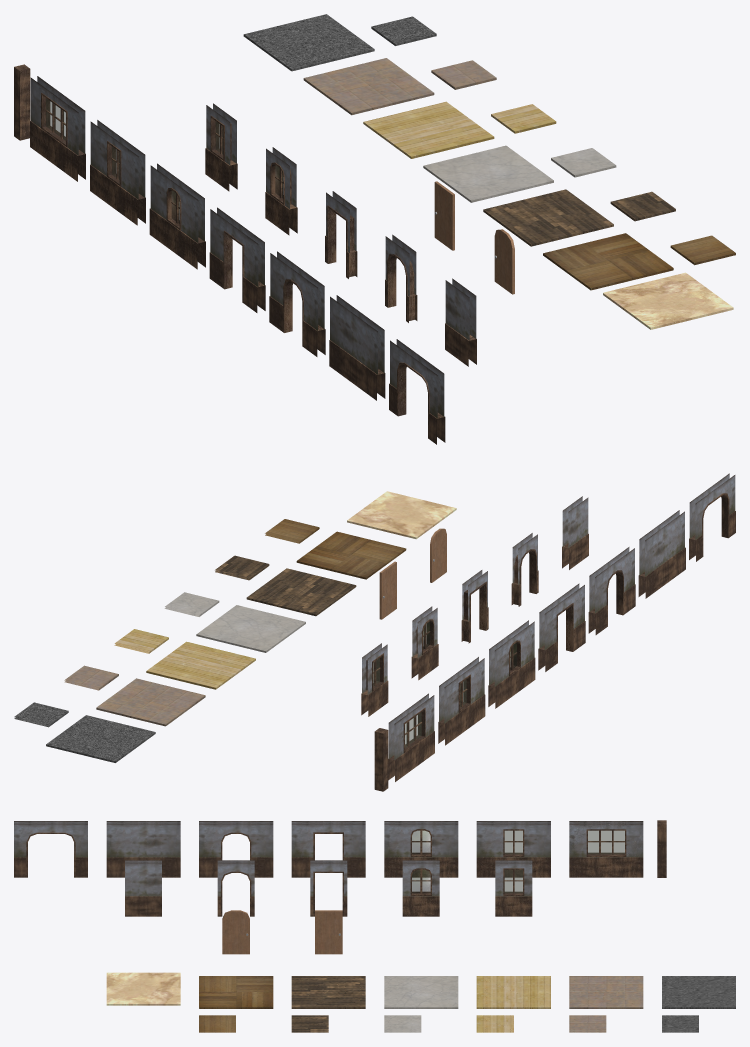
The model's file is ModularHouse.glb.
The picture shows the model from 3 angles, top to bottom: view 1: azimuth 30°, elevation 25°; view 2: azimuth 150°, elevation 25°; view 3: azimuth 270°, elevation 25°; orthographic projection. The views are drawn at different scales.
Parts seen in each view (by area): view 1: Plane.005, Plane.004, Plane.002, Plane.061, Plane.006, Plane.003, Plane.001, Cube.019, Cube.006, Cube.005, Cube.004, Cube.011 (+16 smaller); view 2: Plane.004, Plane.061, Plane.006, Plane.005, Plane.002, Plane.001, Plane.003, Cube.019, Cube.004, Cube.006, Cube.005, Cube.011 (+16 smaller); view 3: Cube.019, Cube.006, Cube.005, Cube.004, Cube.011, Cube.009, Plane.061, Plane.006, Plane.004, Plane.003, Plane.002, Plane.001 (+16 smaller).
Part boxes in pixels (x1=…): Plane.005: x1=243, y1=14, x2=374, y2=71; Plane.004: x1=303, y1=58, x2=434, y2=115; Plane.002: x1=423, y1=145, x2=553, y2=202; Plane.061: x1=603, y1=272, x2=733, y2=329; Plane.006: x1=543, y1=233, x2=673, y2=290; Plane.003: x1=363, y1=101, x2=494, y2=158; Plane.001: x1=483, y1=189, x2=613, y2=246; Cube.019: x1=30, y1=76, x2=85, y2=181; Cube.006: x1=90, y1=120, x2=145, y2=225; Cube.005: x1=149, y1=163, x2=205, y2=269; Cube.004: x1=329, y1=295, x2=385, y2=400; Cube.011: x1=269, y1=251, x2=325, y2=356; Plane.004: x1=96, y1=678, x2=205, y2=726; Plane.061: x1=347, y1=491, x2=456, y2=539; Plane.006: x1=296, y1=531, x2=406, y2=579; Plane.005: x1=46, y1=715, x2=155, y2=762; Plane.002: x1=196, y1=605, x2=305, y2=652; Plane.001: x1=246, y1=568, x2=356, y2=616; Plane.003: x1=146, y1=641, x2=255, y2=689; Cube.019: x1=388, y1=693, x2=434, y2=781; Cube.004: x1=638, y1=510, x2=685, y2=598; Cube.006: x1=438, y1=657, x2=485, y2=745; Cube.005: x1=488, y1=620, x2=535, y2=708; Cube.011: x1=588, y1=547, x2=635, y2=634; Cube.019: x1=569, y1=821, x2=643, y2=877; Cube.006: x1=476, y1=821, x2=550, y2=877; Cube.005: x1=384, y1=821, x2=458, y2=877; Cube.004: x1=106, y1=821, x2=180, y2=877; Cube.011: x1=199, y1=821, x2=273, y2=877; Cube.009: x1=291, y1=821, x2=365, y2=877; Plane.061: x1=106, y1=972, x2=180, y2=1005; Plane.006: x1=199, y1=976, x2=273, y2=1008; Plane.004: x1=569, y1=976, x2=643, y2=1008; Plane.003: x1=476, y1=976, x2=550, y2=1008; Plane.002: x1=384, y1=976, x2=458, y2=1008; Plane.001: x1=291, y1=976, x2=365, y2=1008.
Size of the model in its own units: 20.25 by 3.2 by 39.
Materials: 12 (12 with a texture image).
